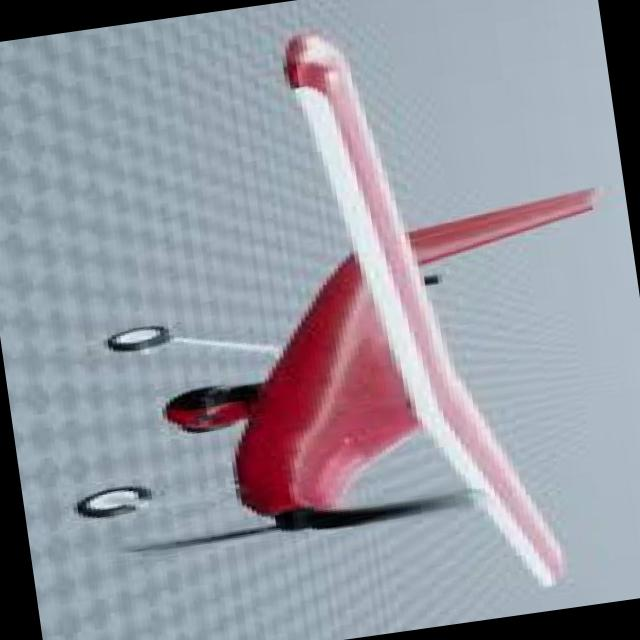UAV: (59, 0, 601, 640)
